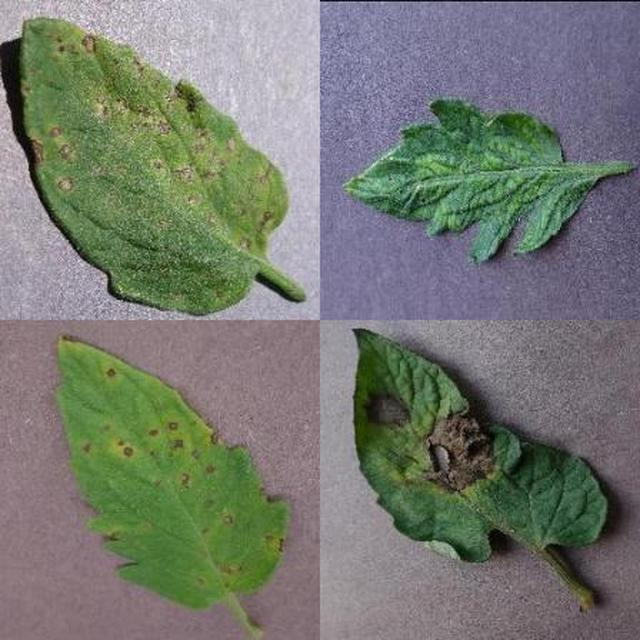Septoria Leaf: (224, 238, 640, 640)
